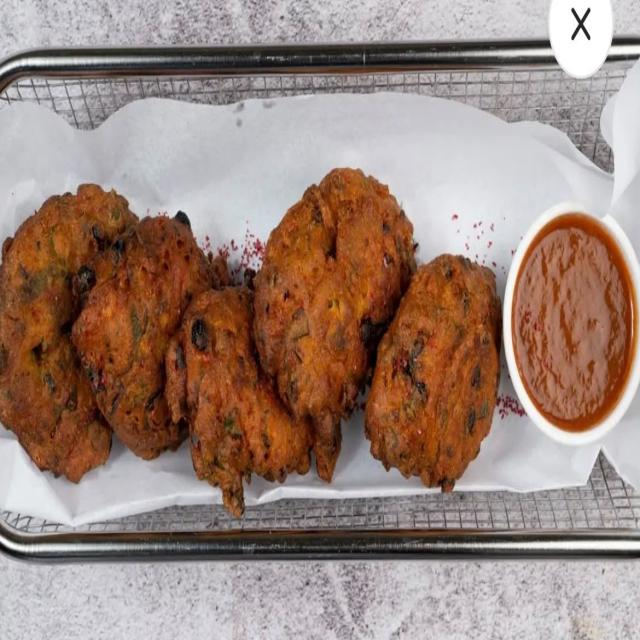Kebab: (1, 164, 503, 544)
